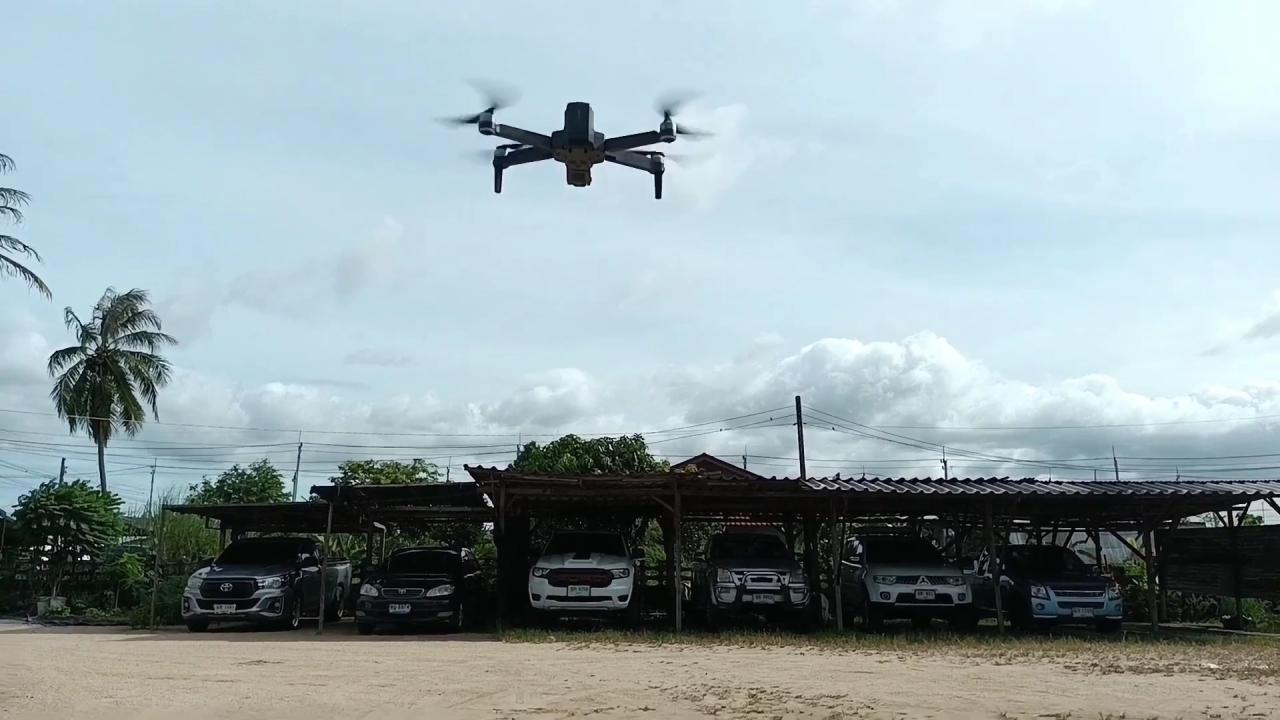Drone: (422, 55, 741, 213)
